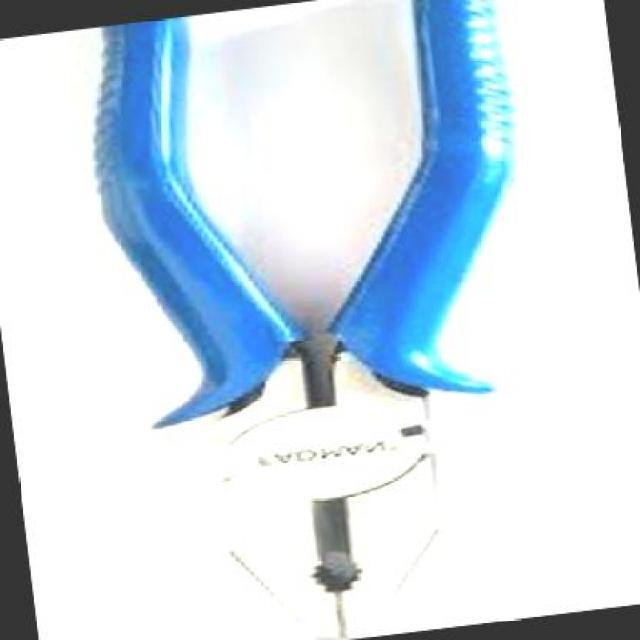pliers: (53, 0, 598, 638)
